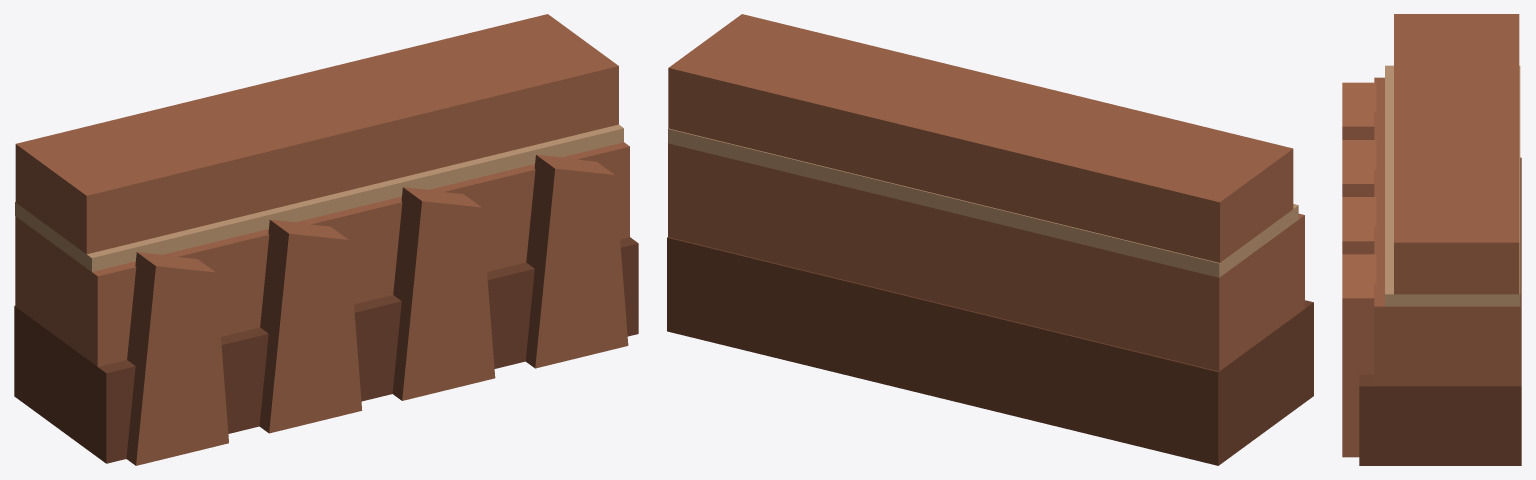
File: Desert_CanyonWall_Standard.glb
3 renders of one model, left to right at view 1: azimuth 30°, elevation 25°; view 2: azimuth 150°, elevation 25°; view 3: azimuth 270°, elevation 25°, orthographic. The views are drawn at different scales.
Parts seen in each view (by area): view 1: Desert_CanyonWall_Standard; view 2: Desert_CanyonWall_Standard; view 3: Desert_CanyonWall_Standard.
Boxes of the visible parts, x1,y1,x2,y2 form: Desert_CanyonWall_Standard: (14,14,638,465); Desert_CanyonWall_Standard: (667,14,1313,465); Desert_CanyonWall_Standard: (1342,14,1521,465).
Size of the model in its own units: 8 by 3.64 by 2.65.
